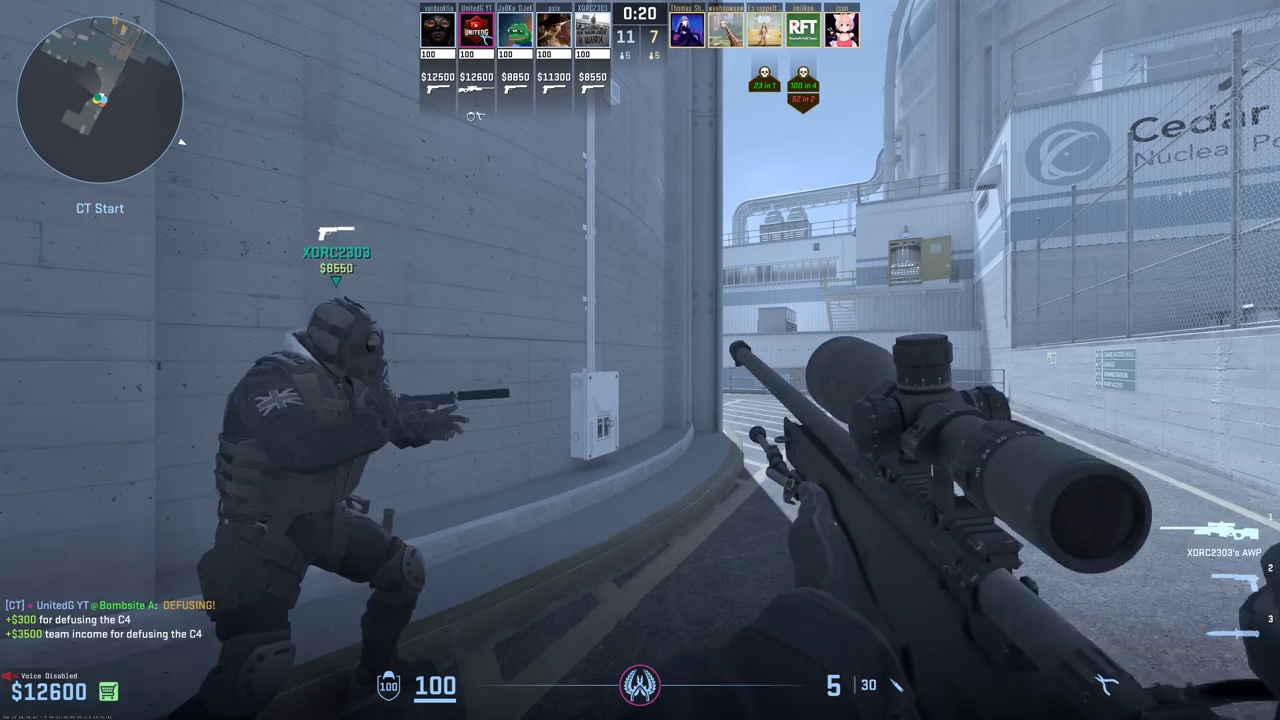CT: (208, 297, 420, 713)
